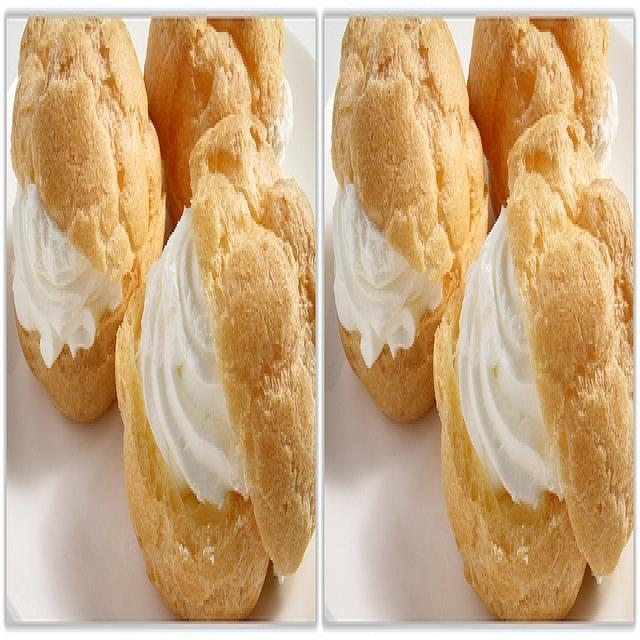炸货点心: (6, 16, 622, 621)
蛋糕甜品: (6, 16, 622, 621)
